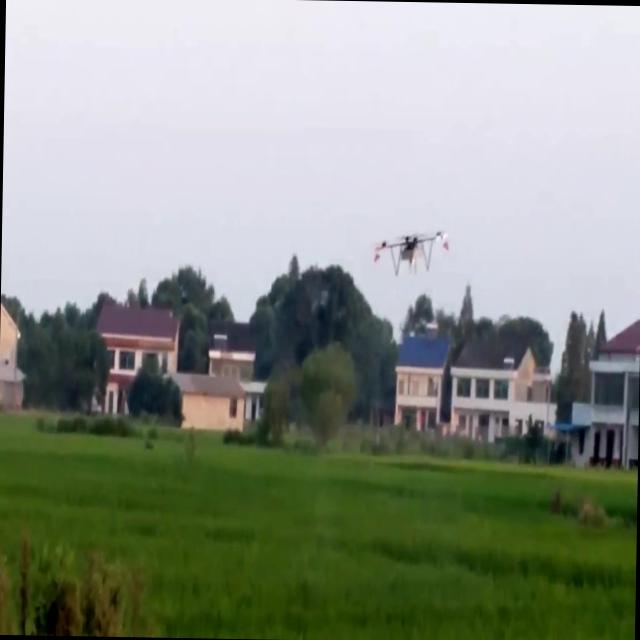drone: (372, 226, 449, 278)
